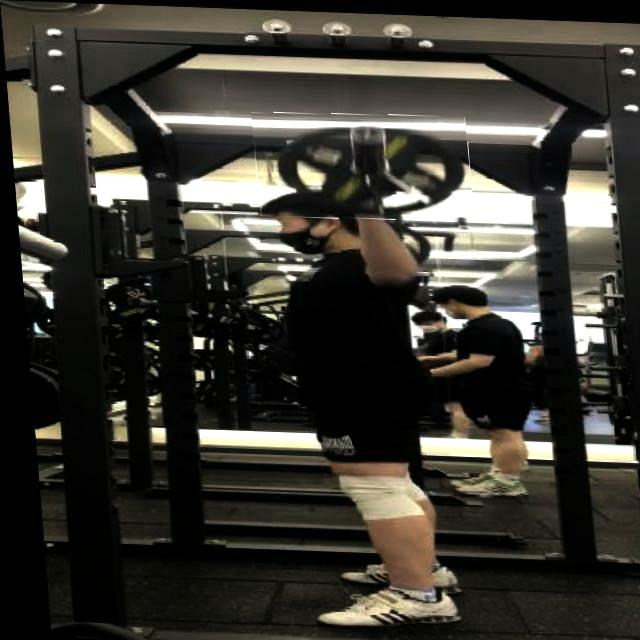barbell: (251, 108, 472, 221)
